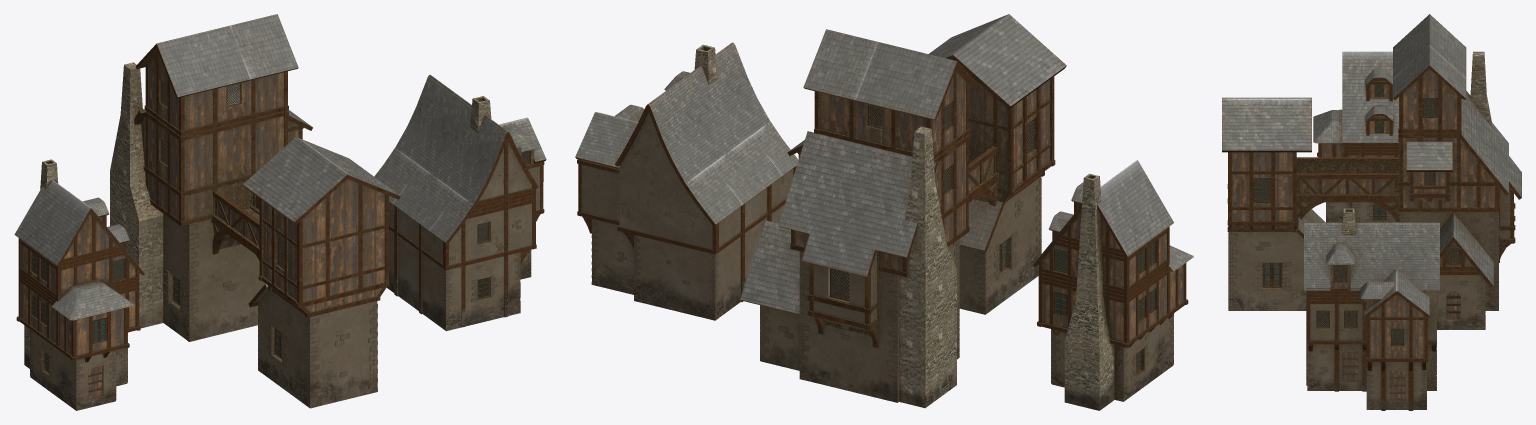
File: houses3.glb
The picture shows the model from 3 angles, left to right: view 1: azimuth 30°, elevation 25°; view 2: azimuth 150°, elevation 25°; view 3: azimuth 270°, elevation 25°; orthographic projection. The views are drawn at different scales.
Parts seen in each view (by area): view 1: stone-house-b, stone-house-c, stone-house-a; view 2: stone-house-b, stone-house-c, stone-house-a; view 3: stone-house-b, stone-house-c, stone-house-a.
Boxes of the visible parts, x1,y1,x2,y2 form: stone-house-b: (110, 14, 400, 408); stone-house-c: (374, 74, 546, 331); stone-house-a: (14, 159, 144, 410); stone-house-b: (740, 14, 1066, 408); stone-house-c: (575, 42, 798, 320); stone-house-a: (1032, 160, 1193, 410); stone-house-b: (1222, 14, 1521, 329); stone-house-c: (1304, 208, 1439, 410); stone-house-a: (1313, 51, 1398, 222).
Bounding box in the file's own units: 18.92 × 10.38 × 11.19.
3 materials, 3 textured.
